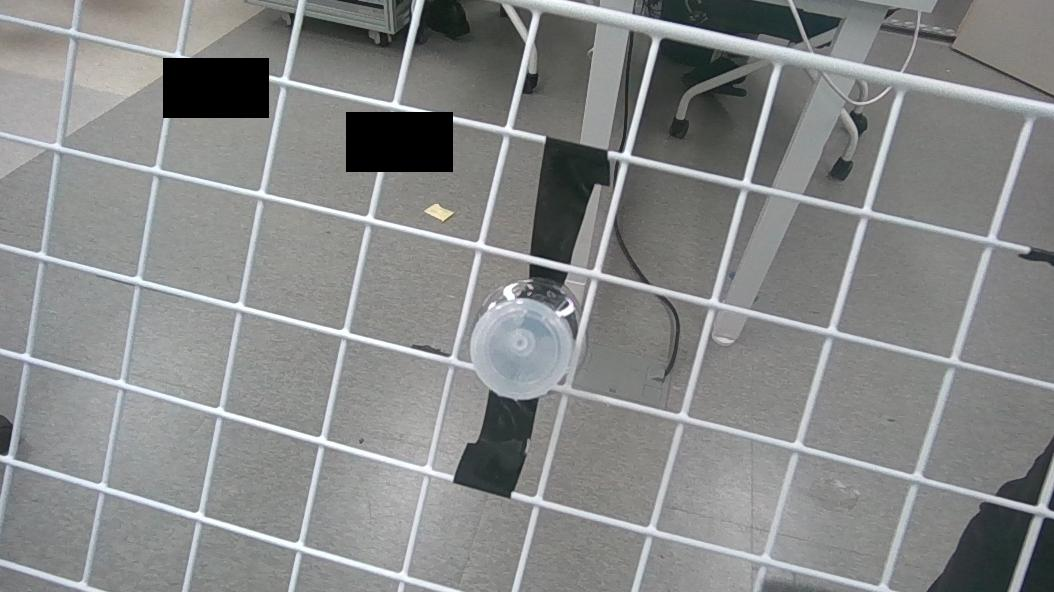Cap: (467, 294, 576, 401)
